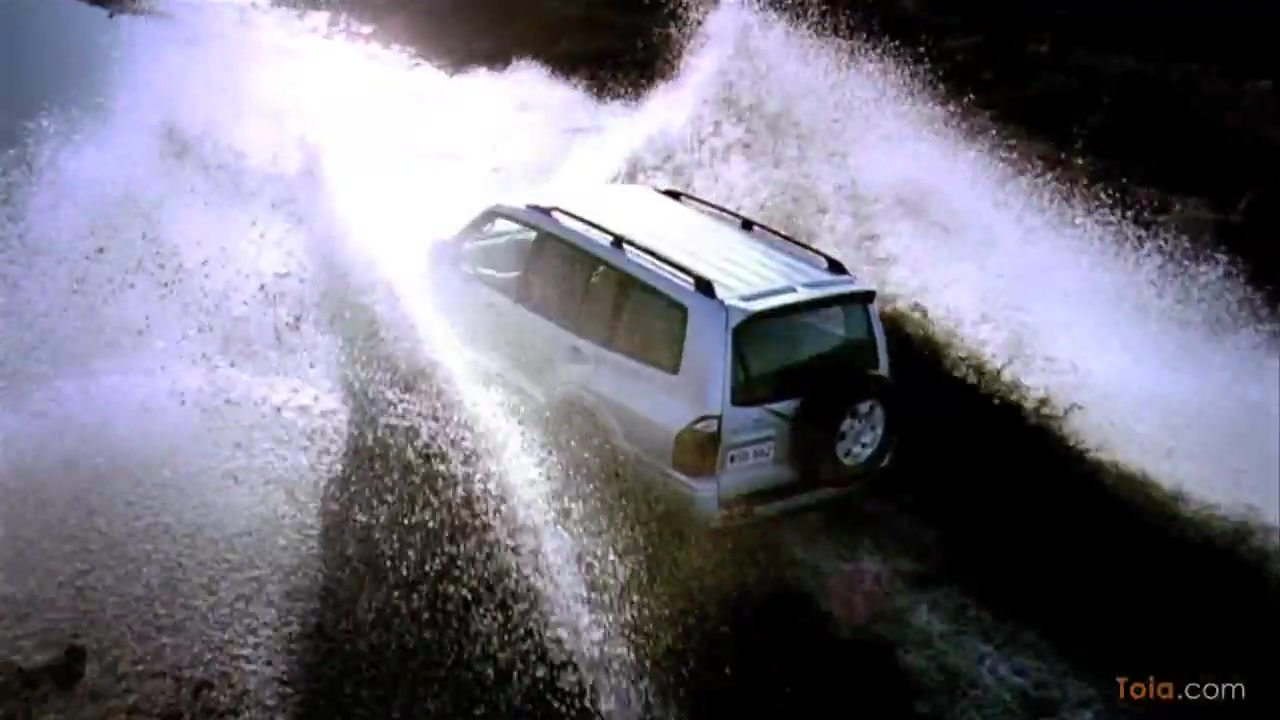car: (427, 182, 905, 542)
